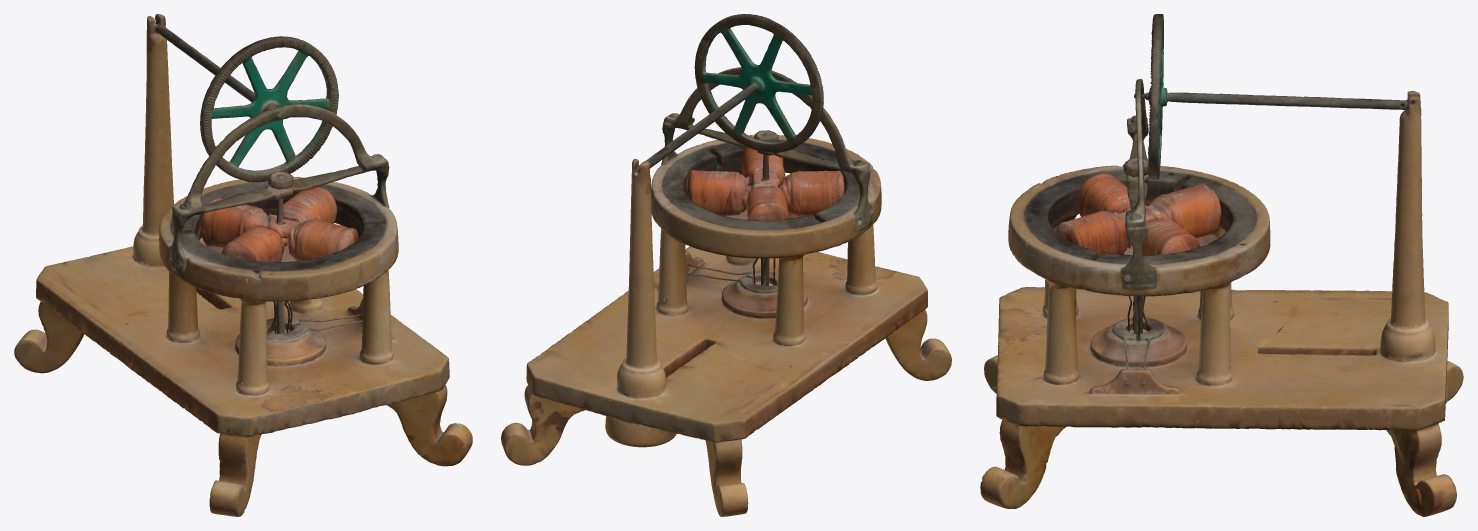
File: museum_motor.glb
3 renders of one model, left to right at view 1: azimuth 30°, elevation 25°; view 2: azimuth 150°, elevation 25°; view 3: azimuth 270°, elevation 25°, orthographic. The views are drawn at different scales.
Parts seen in each view (by area): view 1: davenport_electric_motor_patent_132-unwrapped-webmulti; view 2: davenport_electric_motor_patent_132-unwrapped-webmulti; view 3: davenport_electric_motor_patent_132-unwrapped-webmulti.
Part boxes in pixels (left/top/right/bottom): davenport_electric_motor_patent_132-unwrapped-webmulti: left=14, top=14, right=472, bottom=516; davenport_electric_motor_patent_132-unwrapped-webmulti: left=501, top=14, right=951, bottom=516; davenport_electric_motor_patent_132-unwrapped-webmulti: left=980, top=14, right=1463, bottom=516.
Size of the model in its own units: 0.2623 by 0.3699 by 0.3776.
Materials: 1 (1 with a texture image).
